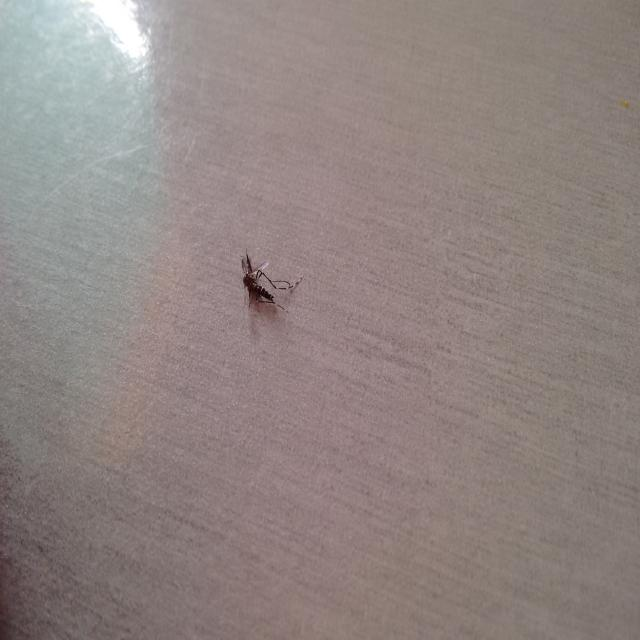albopictus: (235, 237, 308, 318)
